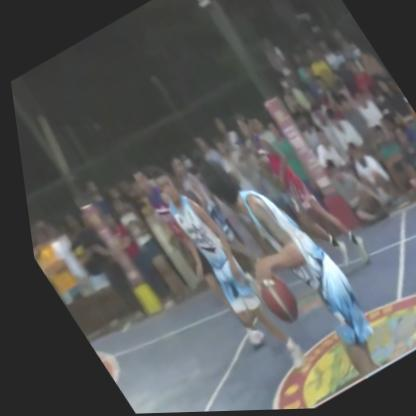basketball: (242, 272, 302, 336)
